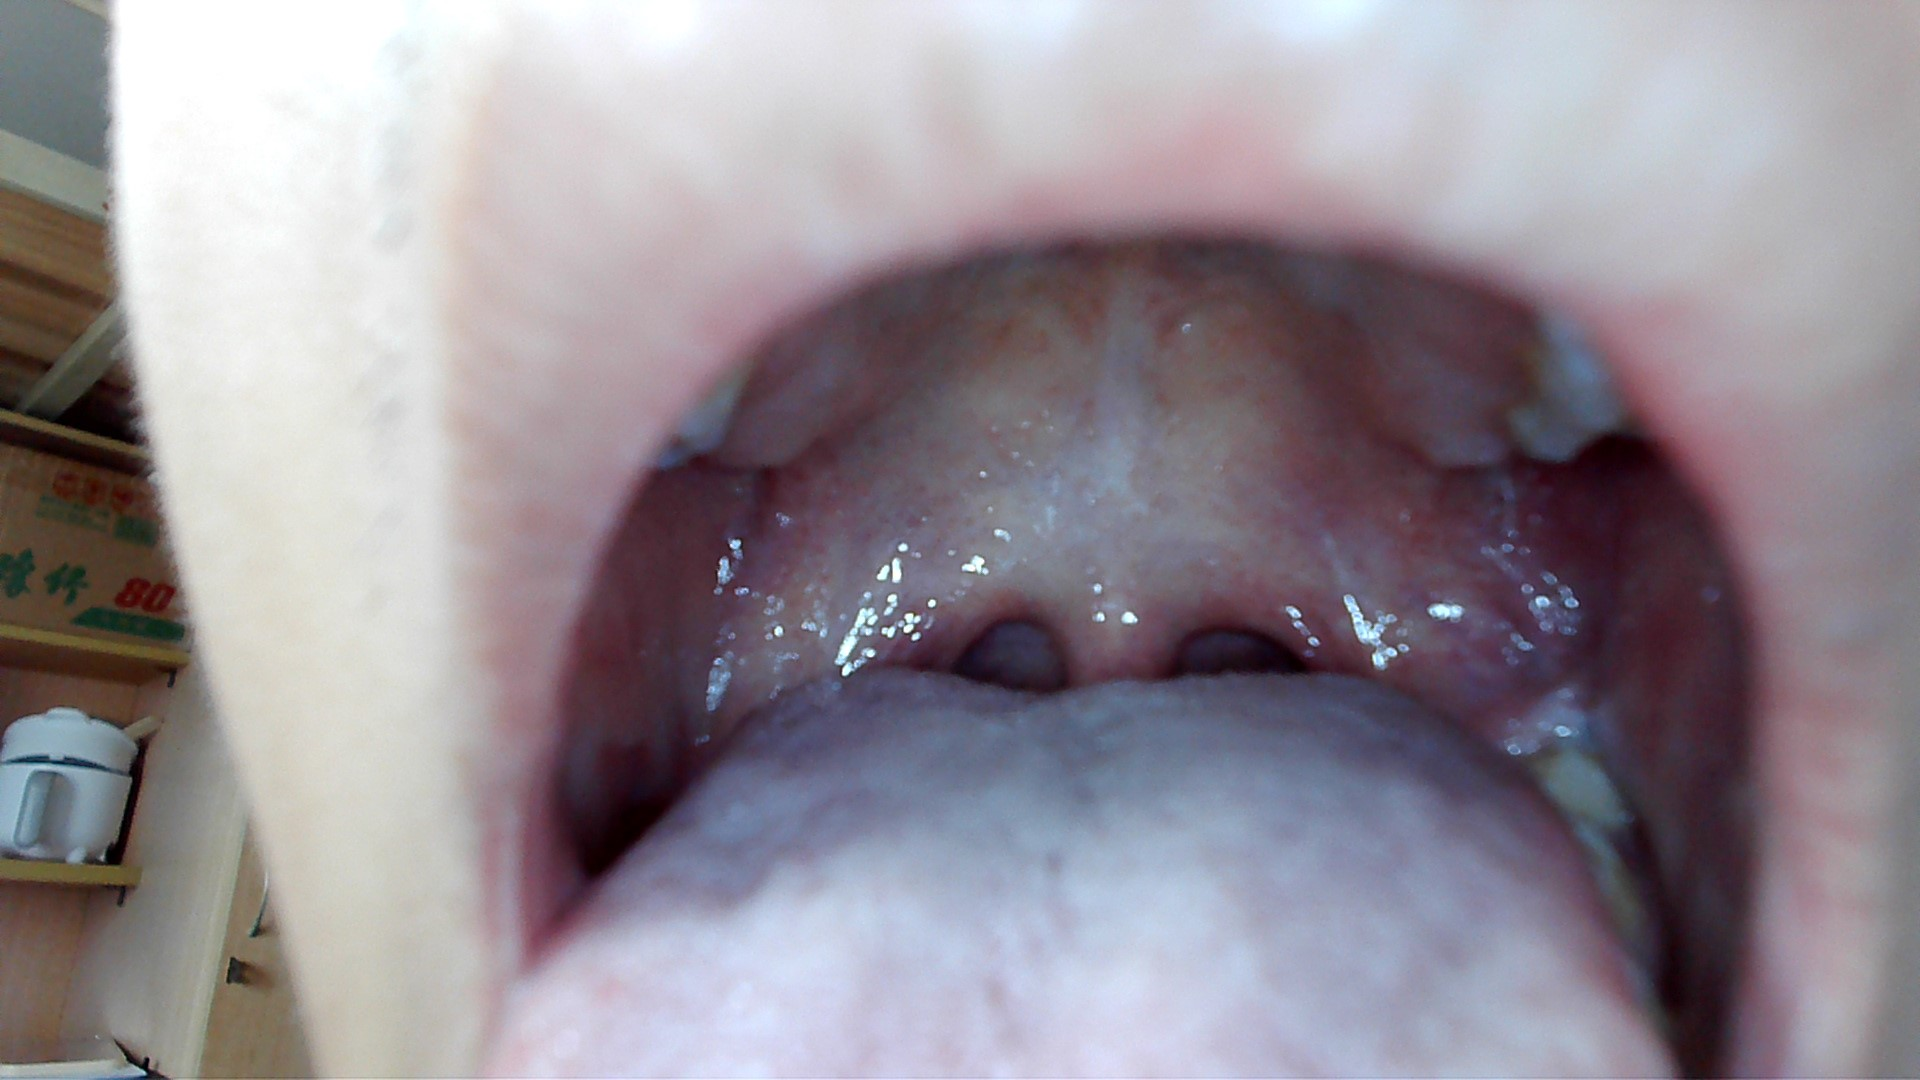throat: (1254, 580, 1447, 684), (829, 576, 998, 669)
